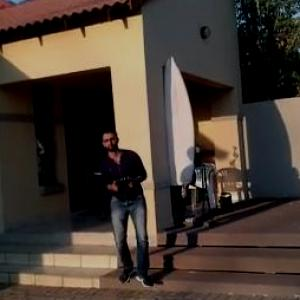follow: (99, 122, 157, 292)
